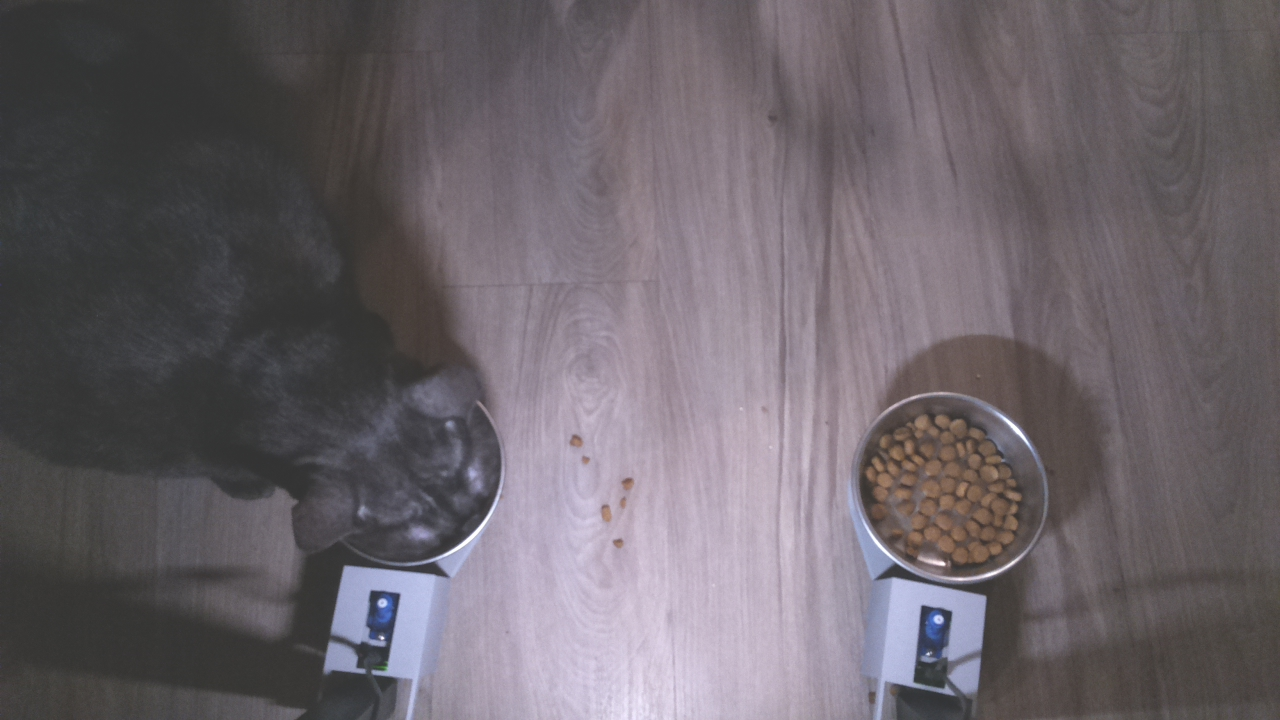open_bowl: (849, 386, 1054, 587)
saki_eating: (278, 330, 513, 585)
